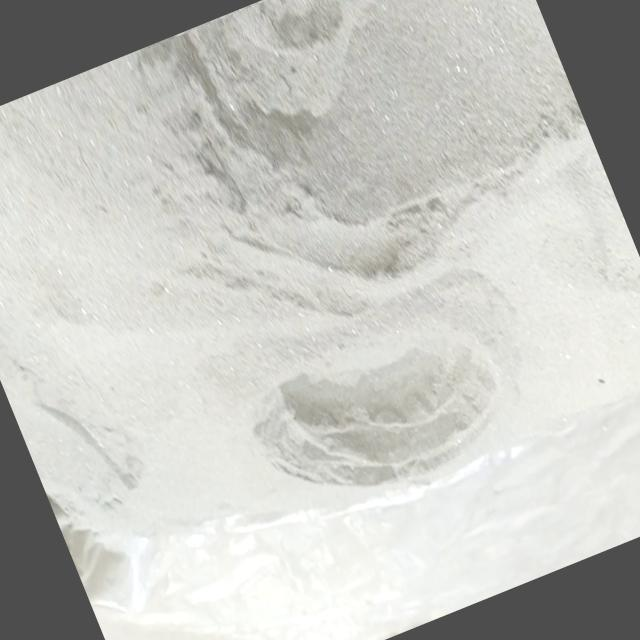C20: (148, 0, 567, 278), (260, 326, 493, 483)
